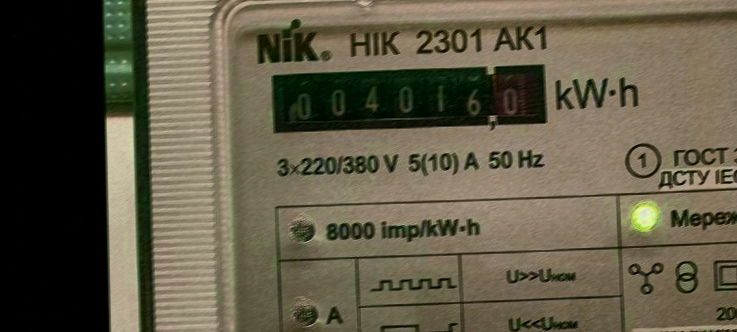0: (394, 79, 416, 115), (292, 87, 314, 120), (498, 82, 519, 115), (327, 83, 347, 117)
1: (432, 78, 448, 112)
4: (361, 79, 380, 114)
6: (462, 82, 482, 114)
screen: (264, 55, 555, 139)
